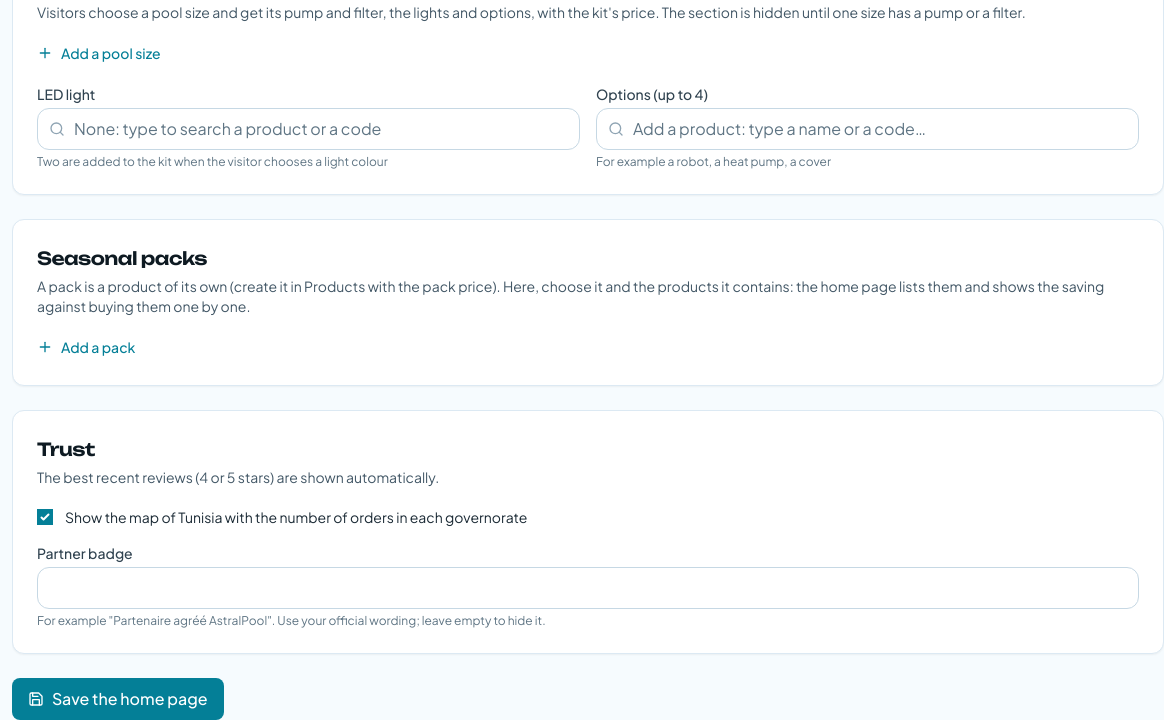
Scenario: admin home page settings › shows the server’s reason when saving fails
The image size is (1164, 720).
(page scrolled)
Click the button "Save the home page". click: click(118, 699)
box: [12,678,224,719]
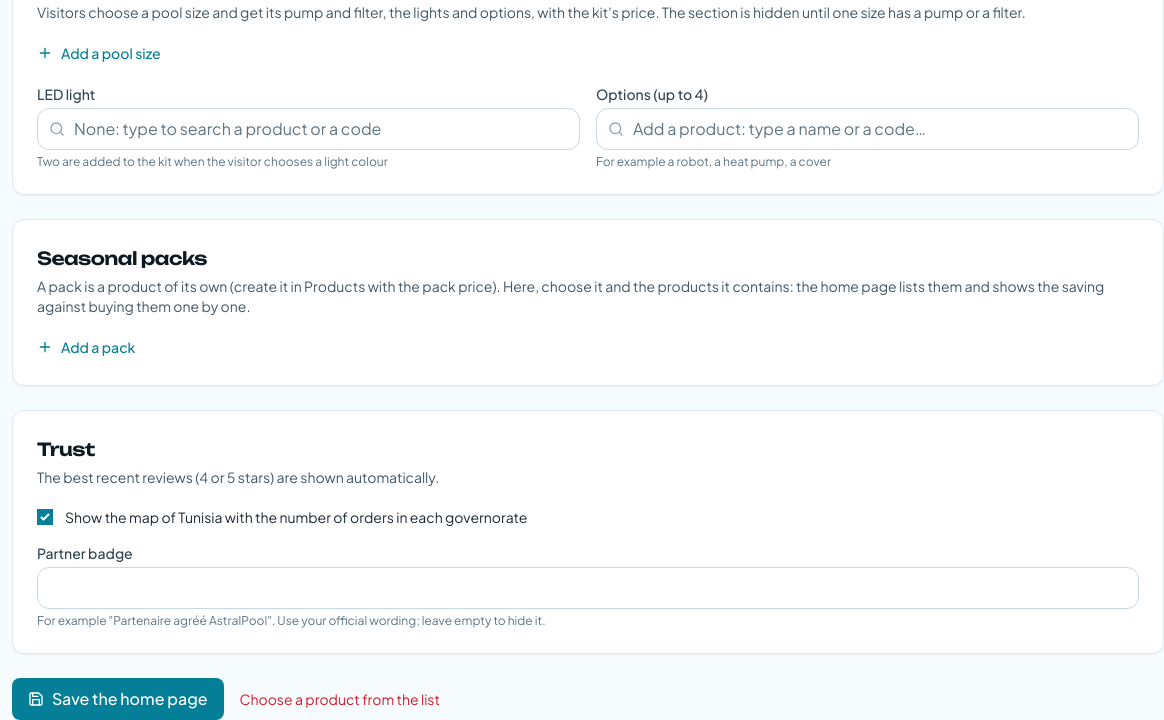
Expected: the message reads "Choose a product from the list", [240,690,440,708]
